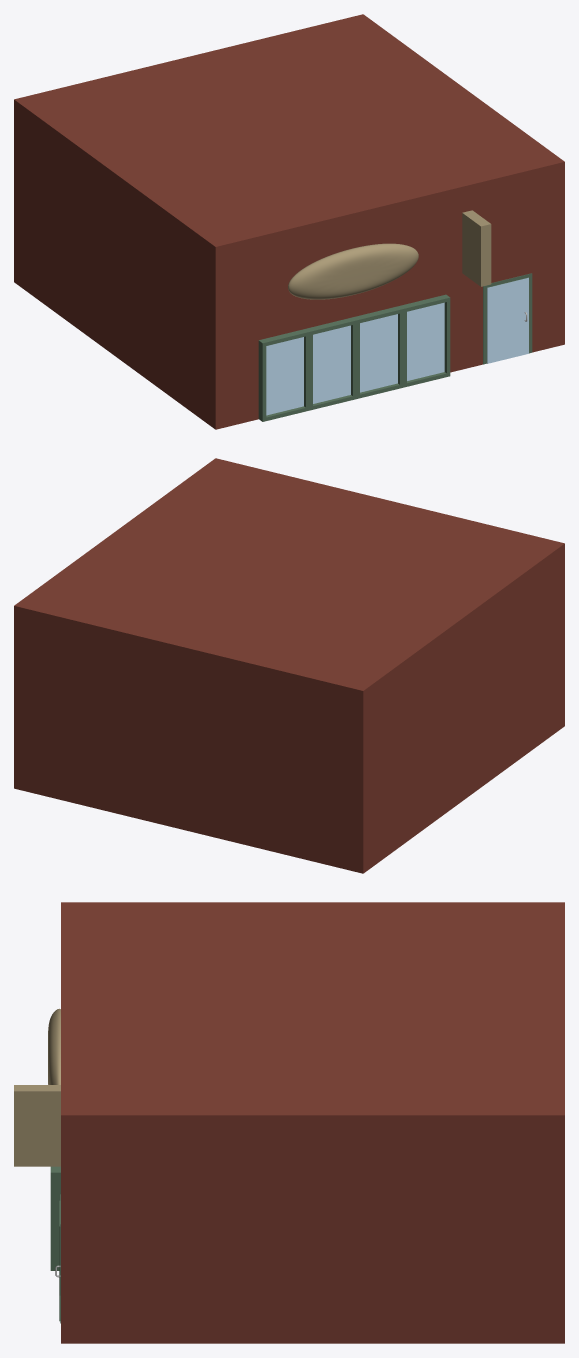
Rendered from BasicBuilding2.fbx.
The picture shows the model from 3 angles, top to bottom: view 1: azimuth 30°, elevation 25°; view 2: azimuth 150°, elevation 25°; view 3: azimuth 270°, elevation 25°; orthographic projection. The views are drawn at different scales.
Parts seen in each view (by area): view 1: Building Piece 2; view 2: Building Piece 2; view 3: Building Piece 2.
Part boxes in pixels (x1=…): Building Piece 2: x1=14, y1=14, x2=564, y2=429; Building Piece 2: x1=14, y1=458, x2=564, y2=873; Building Piece 2: x1=14, y1=902, x2=564, y2=1343.
Bounding box in the file's own units: 1000 × 500 × 1093.
